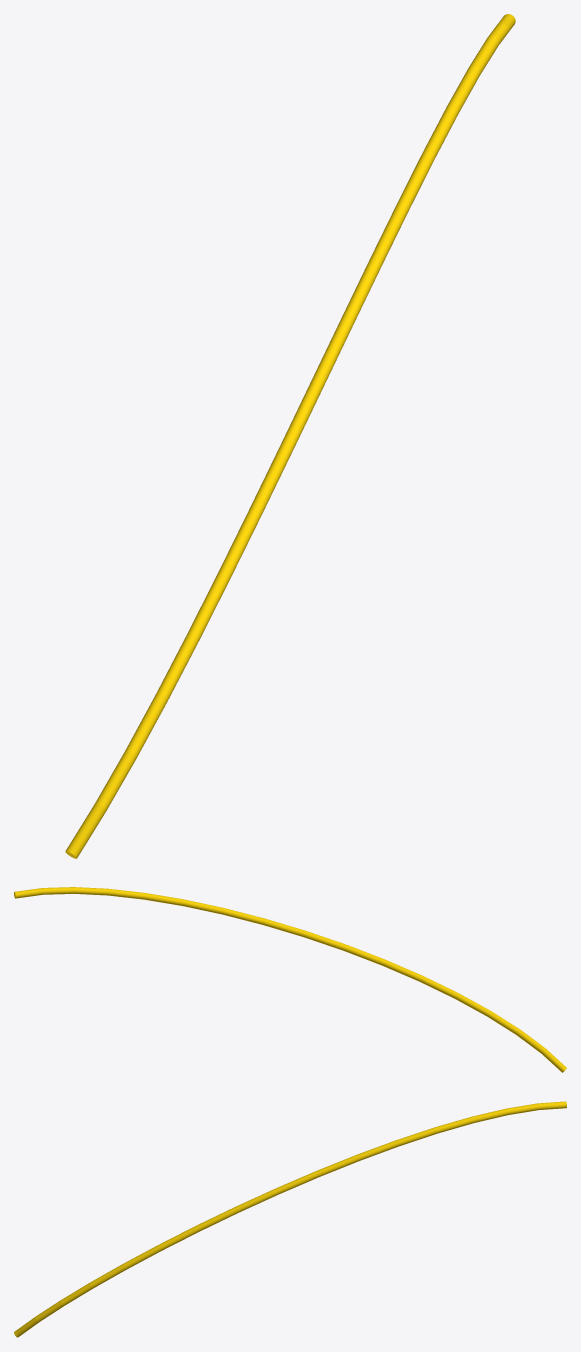
Rendered from Event_421115418_track_6.fbx.
3 renders of one model, top to bottom at view 1: azimuth 30°, elevation 25°; view 2: azimuth 150°, elevation 25°; view 3: azimuth 330°, elevation 25°, orthographic. The views are drawn at different scales.
Visible parts, largest first — view 1: Model; view 2: Model; view 3: Model.
Part boxes in pixels (x1=…): Model: x1=65, y1=14, x2=515, y2=858; Model: x1=14, y1=887, x2=566, y2=1072; Model: x1=14, y1=1101, x2=566, y2=1337.
Size of the model in its own units: 2.61 by 1.34 by 1.96.
